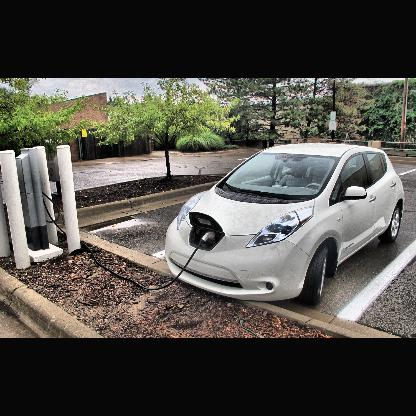Nissan Leaf Hatchback 2012: (165, 145, 404, 307)
